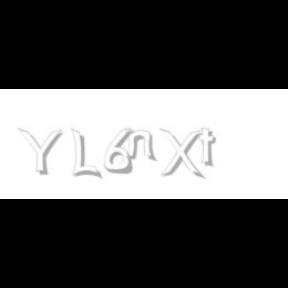6: (104, 128, 134, 176)
L: (71, 128, 99, 180)
X: (159, 128, 203, 180)
Y: (17, 128, 63, 176)
n: (124, 128, 158, 162)
t: (198, 128, 220, 168)
